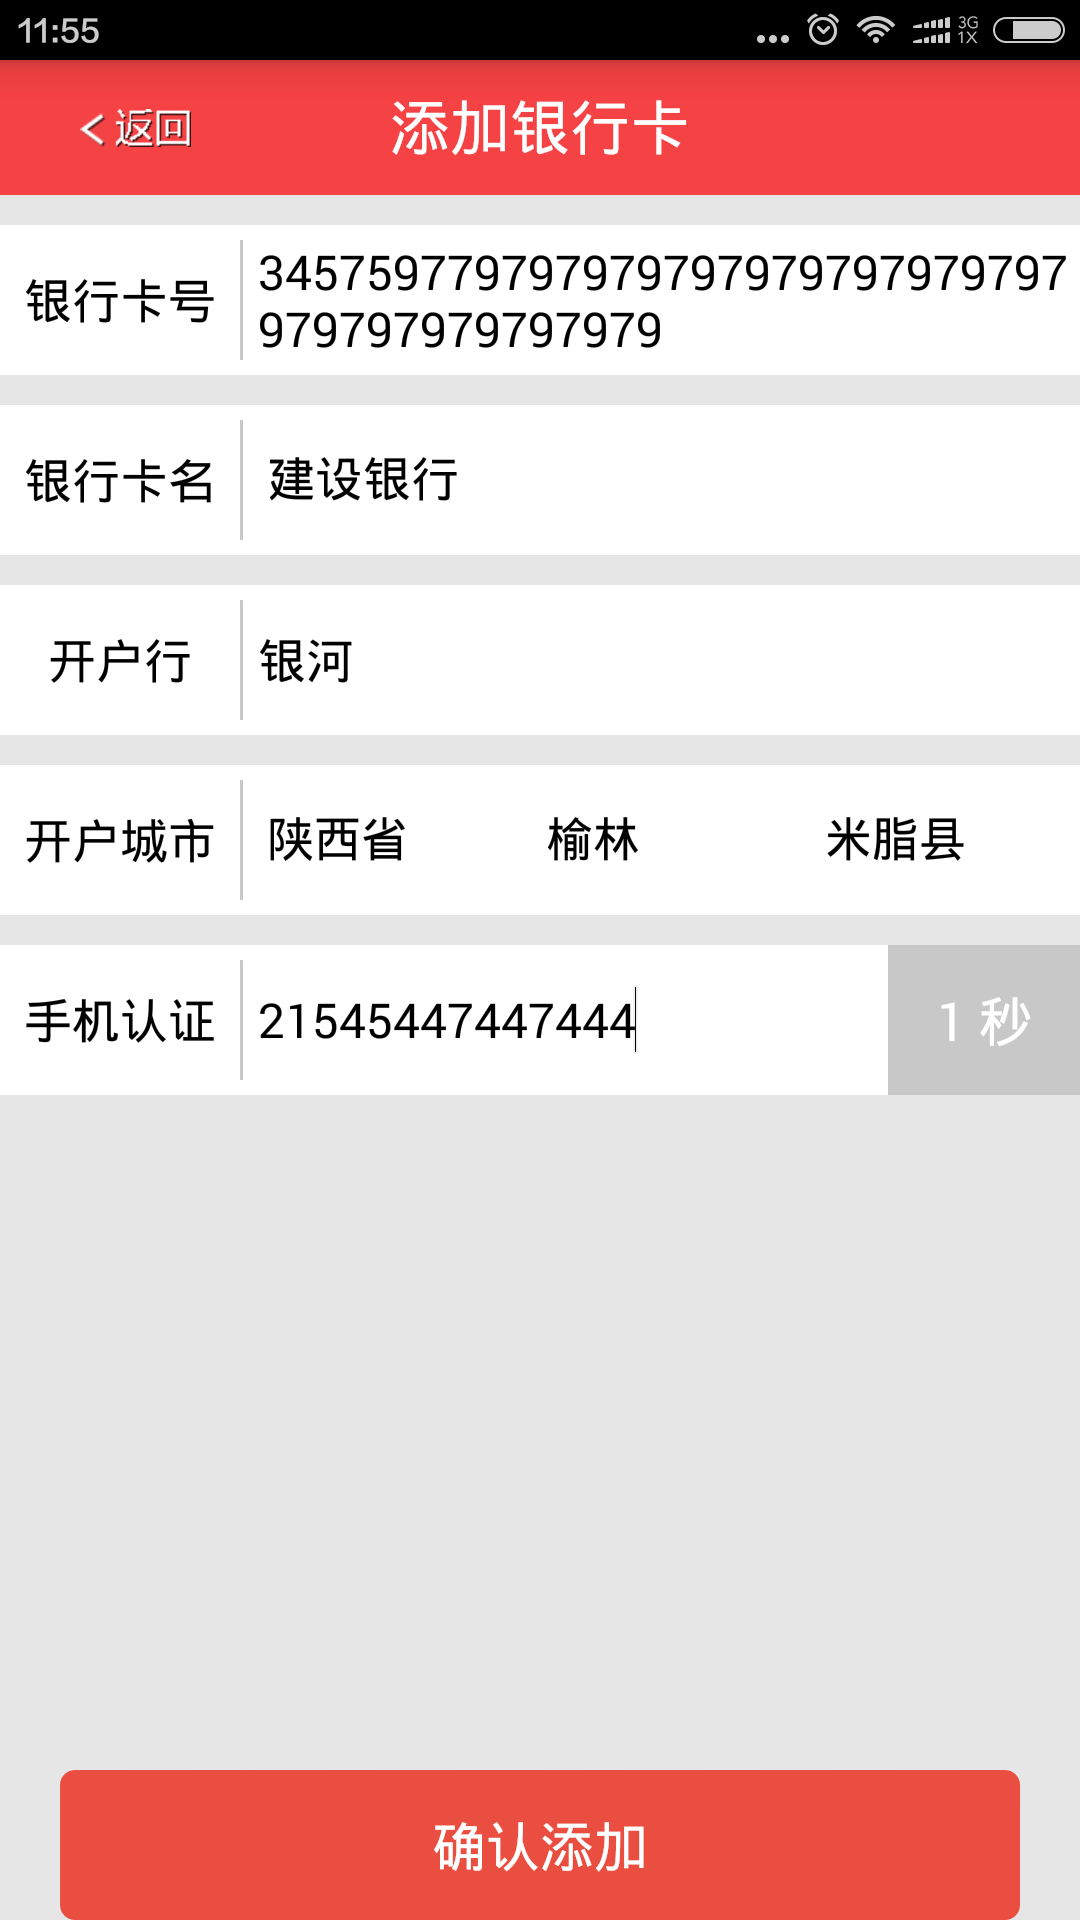textview: (1, 225, 1080, 1125)
